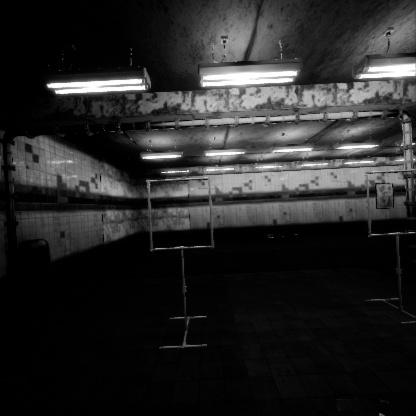gate: (147, 164, 220, 239), (365, 178, 416, 247)
